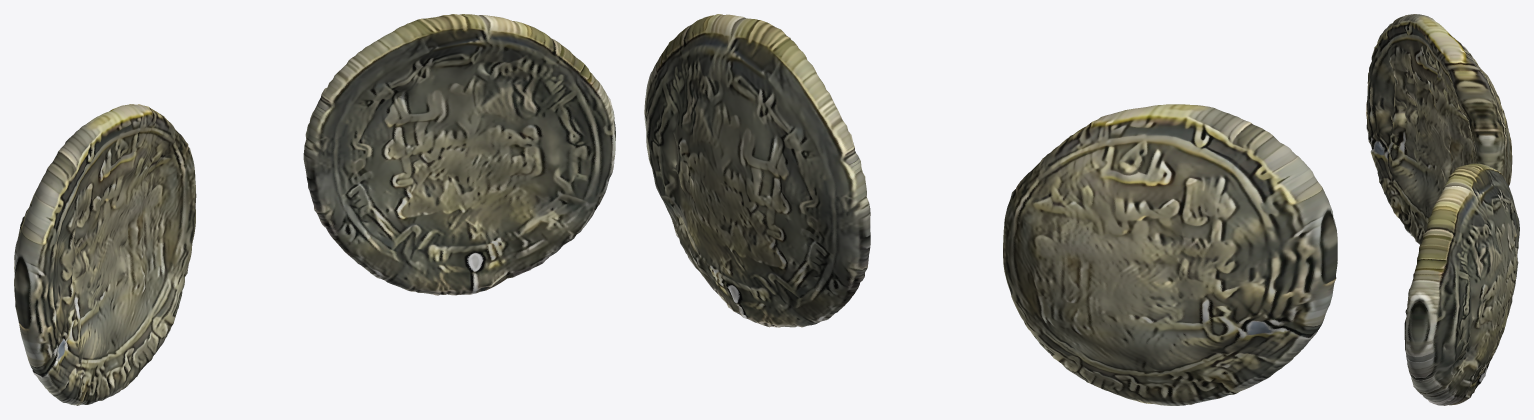
File: kfl-2168.glb
3 views of the same model, side by side, from view 1: azimuth 30°, elevation 25°; view 2: azimuth 150°, elevation 25°; view 3: azimuth 270°, elevation 25° (orthographic). The views are drawn at different scales.
Visible parts, largest first — view 1: kfl-2168; view 2: kfl-2168; view 3: kfl-2168.
Boxes of the visible parts, x1,y1,x2,y2 form: kfl-2168: (14, 14, 615, 405); kfl-2168: (644, 14, 1337, 405); kfl-2168: (1366, 14, 1519, 405).
Size of the model in its own units: 0.9957 by 0.4301 by 0.264.
Materials: 1 (1 with a texture image).
